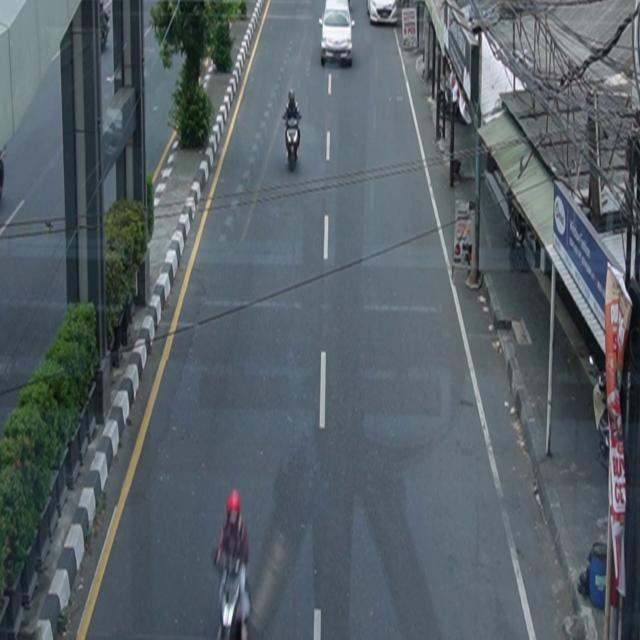car: (319, 1, 355, 67), (368, 1, 399, 26)
